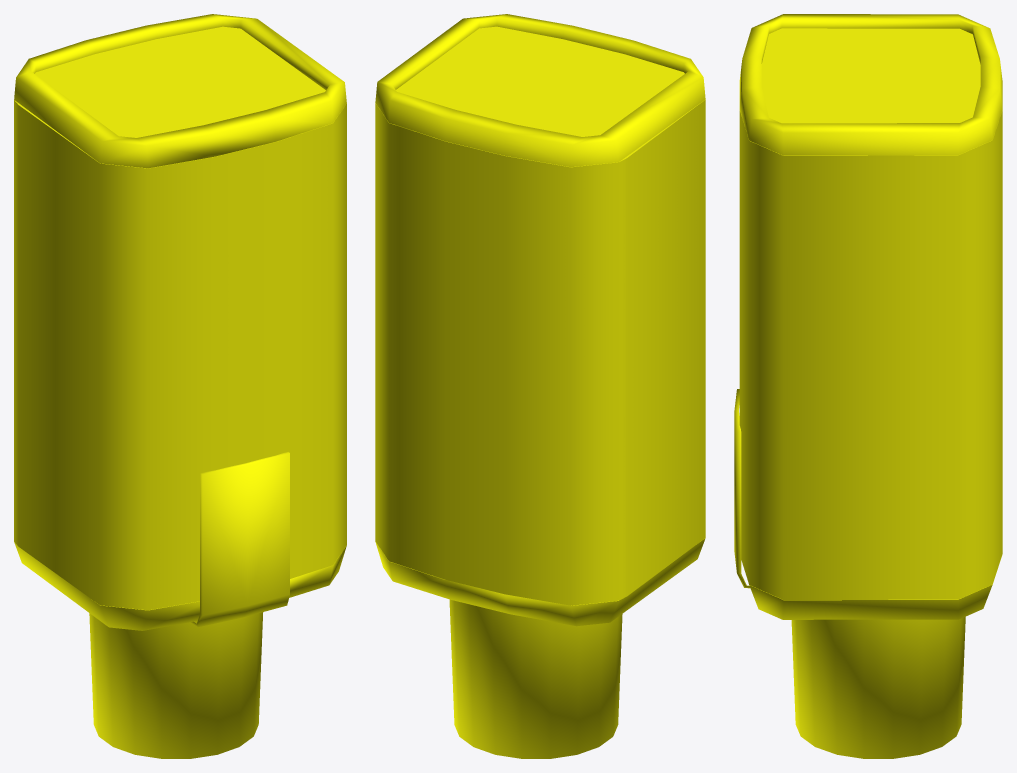
The model's file is sm_hana_cctv_bullet_camera_400_lod03.glb.
3 renders of one model, left to right at view 1: azimuth 30°, elevation 25°; view 2: azimuth 150°, elevation 25°; view 3: azimuth 270°, elevation 25°, orthographic.
Parts seen in each view (by area): view 1: sm_hana_cctv_bullet_camera_400_lod03; view 2: sm_hana_cctv_bullet_camera_400_lod03; view 3: sm_hana_cctv_bullet_camera_400_lod03.
Boxes of the visible parts, <box> form: sm_hana_cctv_bullet_camera_400_lod03: <box>14,14,346,758</box>; sm_hana_cctv_bullet_camera_400_lod03: <box>375,14,705,758</box>; sm_hana_cctv_bullet_camera_400_lod03: <box>734,14,1002,758</box>.
Size of the model in its own units: 0.4643 by 1.17 by 0.4324.
2 materials, 1 textured.
